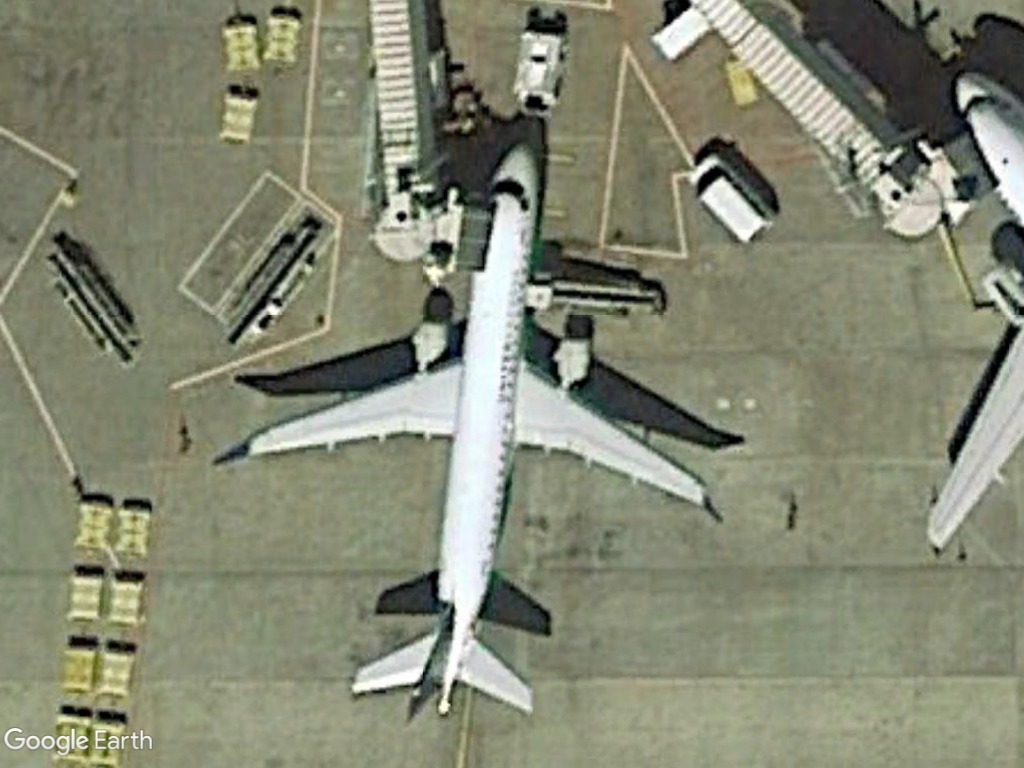airliner: (216, 134, 726, 718)
pushbacktruck: (509, 22, 572, 124)
van: (684, 151, 779, 250)
